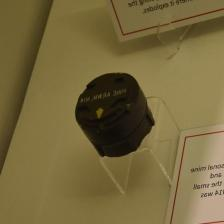M14: (77, 69, 154, 159)
